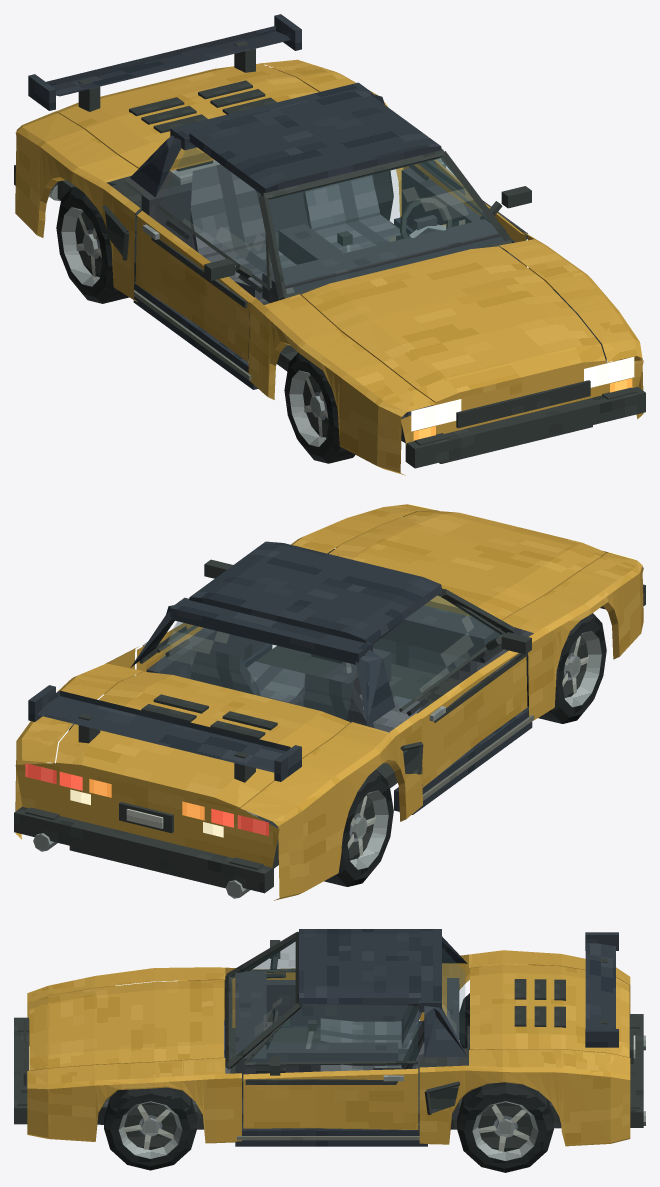
Rendered from torrel-1988.glb.
3 views of the same model, one above another, from view 1: azimuth 30°, elevation 25°; view 2: azimuth 150°, elevation 25°; view 3: azimuth 270°, elevation 25° (orthographic). The views are drawn at different scales.
Visible parts, largest first — view 1: body, Lift-off bonnet, door_r, Removable targa shell, Mid-engine deck lid, wheel_rr, door_l, wheel_fr, steering_wheel, light_head_r, light_head_l, wheel_rl; view 2: body, door_r, Lift-off bonnet, Mid-engine deck lid, Removable targa shell, wheel_rr, wheel_fr, door_l; view 3: body, door_l, Lift-off bonnet, Mid-engine deck lid, Removable targa shell, wheel_rl, wheel_fl, door_r, wheel_rr.
Boxes of the visible parts, <box> form: body: <box>14,14,645,475</box>; Lift-off bonnet: <box>301,246,605,405</box>; door_r: <box>135,144,271,362</box>; Removable targa shell: <box>189,90,441,194</box>; Mid-engine deck lid: <box>56,63,318,171</box>; wheel_rr: <box>56,182,136,303</box>; door_l: <box>401,157,531,266</box>; wheel_fr: <box>284,352,355,463</box>; steering_wheel: <box>400,197,452,238</box>; light_head_r: <box>411,399,461,431</box>; light_head_l: <box>584,357,634,387</box>; wheel_rl: <box>373,170,393,220</box>; body: <box>14,504,645,900</box>; door_r: <box>373,595,531,787</box>; Lift-off bonnet: <box>329,510,605,620</box>; Mid-engine deck lid: <box>56,671,350,809</box>; Removable targa shell: <box>189,541,441,643</box>; wheel_rr: <box>324,770,393,886</box>; wheel_fr: <box>526,613,606,723</box>; door_l: <box>136,559,265,678</box>; body: <box>14,929,645,1146</box>; door_l: <box>243,1004,418,1129</box>; Lift-off bonnet: <box>29,980,223,1070</box>; Mid-engine deck lid: <box>470,964,629,1057</box>; Removable targa shell: <box>299,929,421,1003</box>; wheel_rl: <box>457,1082,553,1172</box>; wheel_fl: <box>104,1087,197,1170</box>; door_r: <box>245,938,408,1026</box>; wheel_rr: <box>459,993,469,1048</box>.
Size of the model in its own units: 1.98 by 1.16 by 4.2.
Materials: 5 (5 with a texture image).
